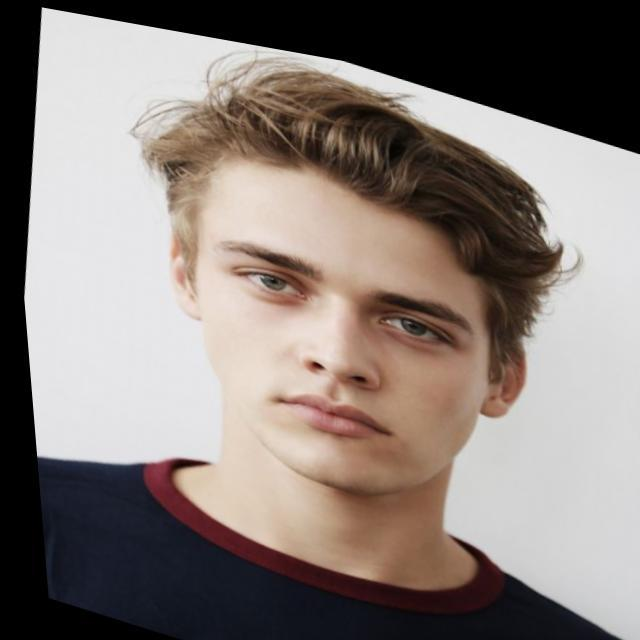Nonhelmet: (139, 66, 541, 505)
